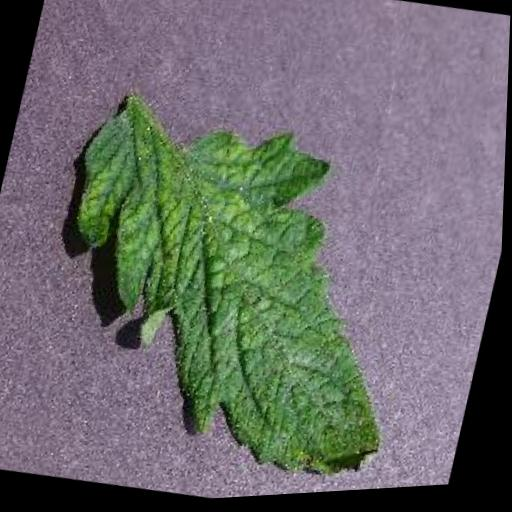Mosaic Virus: (25, 92, 455, 504)
